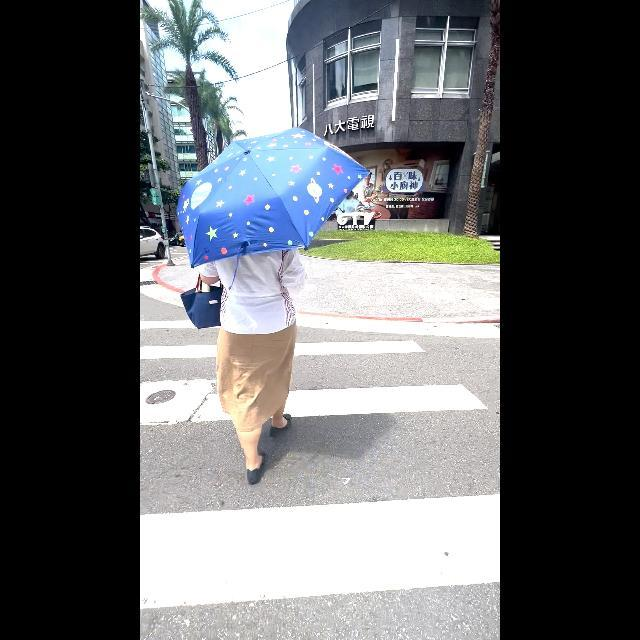sidewalk: (140, 267, 500, 637)
